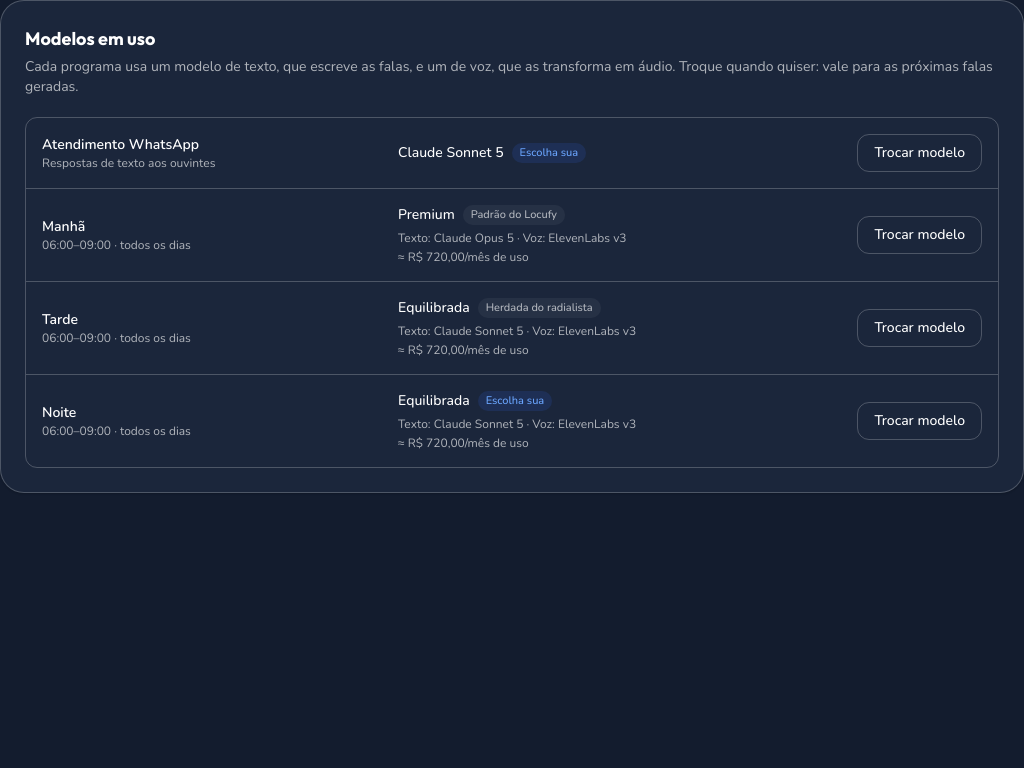
Test: aplica a mesma combinação a todos os programas
Click the button with aria-label "Trocar modelo de Tarde": point(920, 328) x1=857 y1=309 x2=982 y2=347
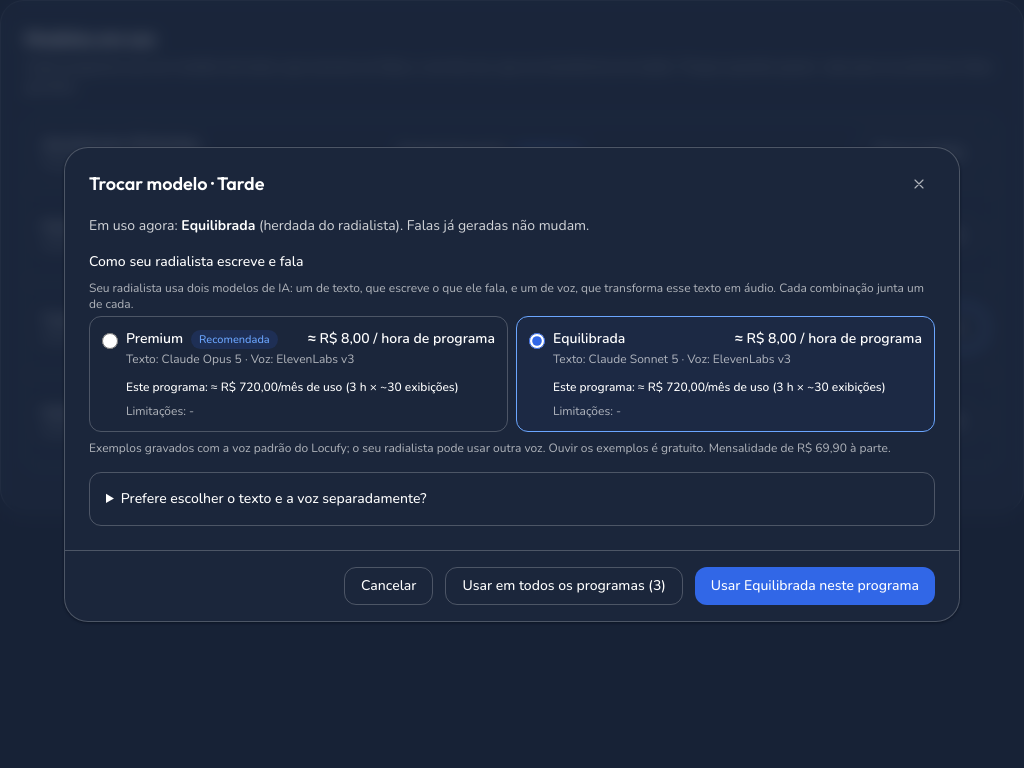
Click the radio button labelled "Premium": point(110, 340) x1=102 y1=332 x2=118 y2=348
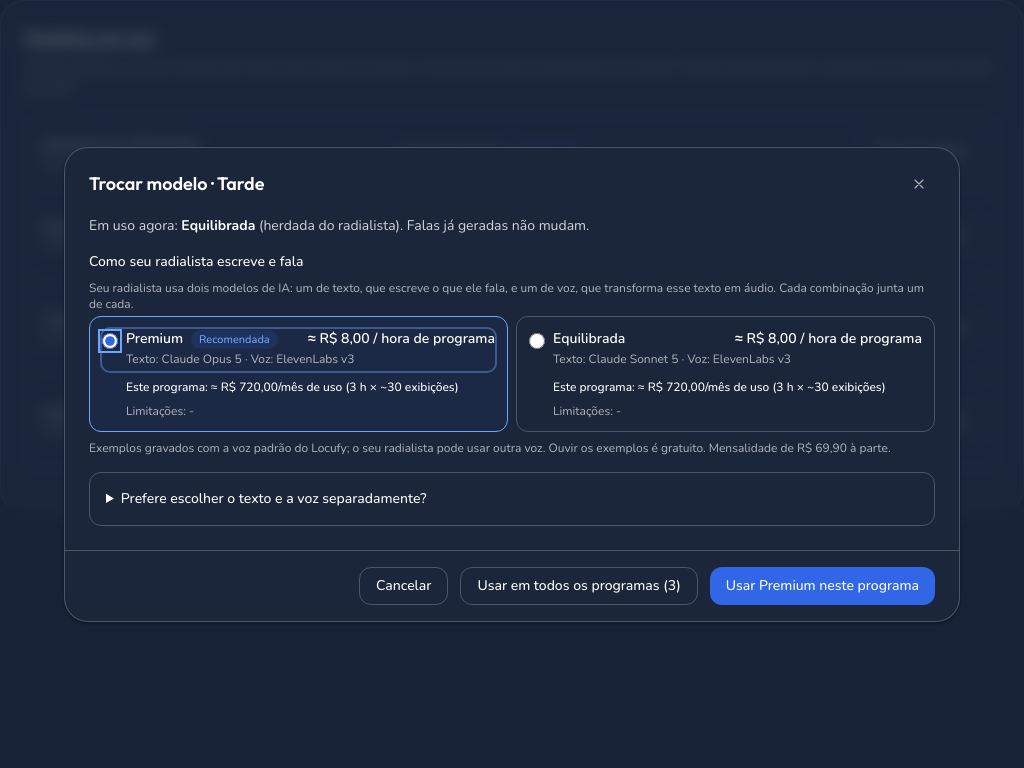
Click the button "Usar em todos os programas (3)": point(579, 586) x1=460 y1=566 x2=698 y2=604
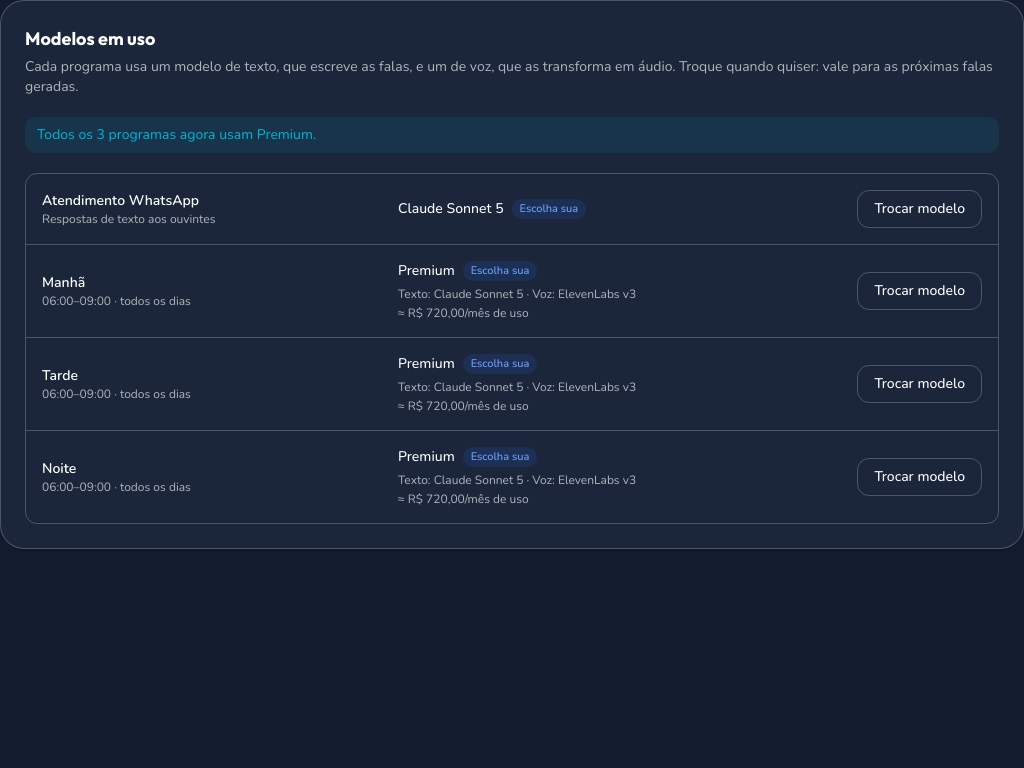
Result: the message shows "Todos os 3 programas agora usam Premium" at x1=37 y1=125 x2=316 y2=144
